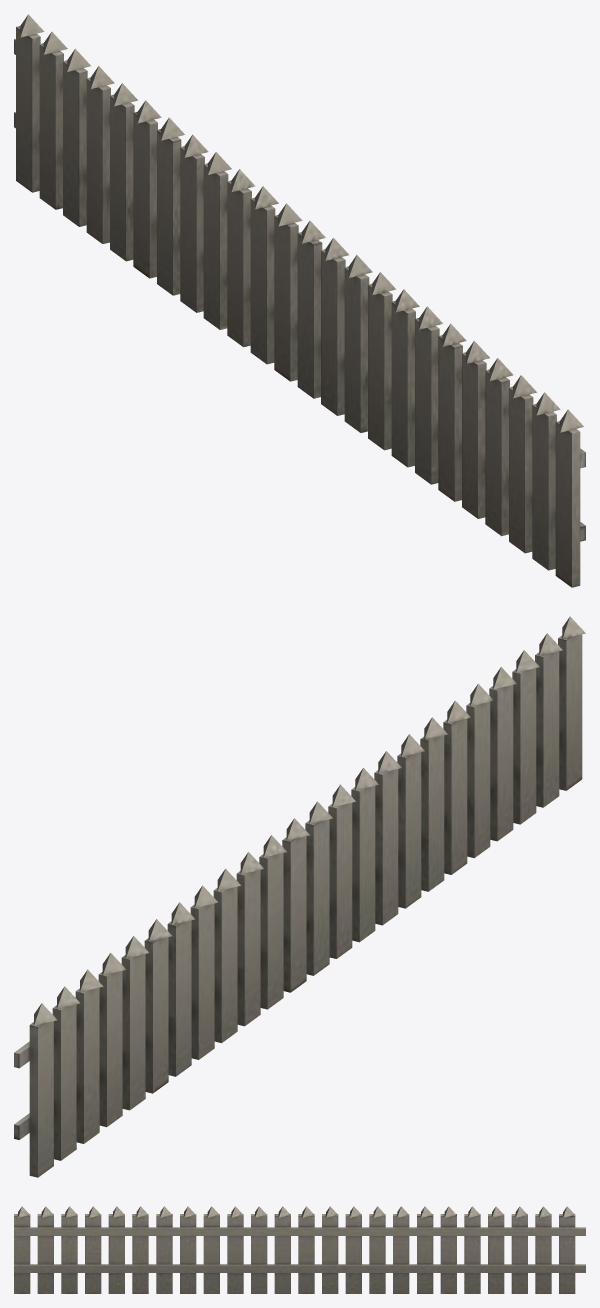
File: valla_tom.glb
3 views of the same model, one above another, from view 1: azimuth 30°, elevation 25°; view 2: azimuth 150°, elevation 25°; view 3: azimuth 270°, elevation 25° (orthographic). The views are drawn at different scales.
Parts seen in each view (by area): view 1: valla_tom; view 2: valla_tom; view 3: valla_tom.
Part boxes in pixels (x1,y1,x2,y2): valla_tom: [14, 14, 585, 587]; valla_tom: [14, 616, 585, 1177]; valla_tom: [14, 1206, 585, 1293].
Bounding box in the file's own units: 0.1732 × 1.17 × 7.
1 material, 1 textured.
